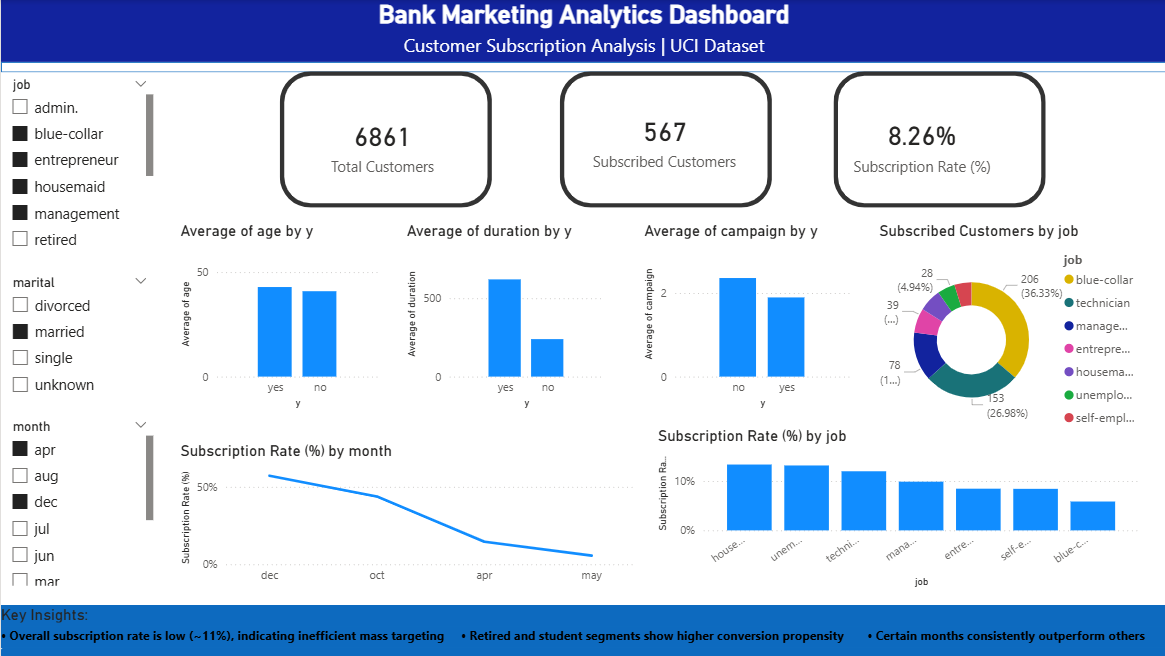

The dashboard page shown, as its layout file describes it:
{"tool":"powerbi","page":{"name":"Page 1","canvas":[1280,720],"ordinal":0},"visuals":[{"type":"card","fields":{"Values":["bank-additional-full.Total Customers"]},"box":[330.7,77.7,176.6,161.1],"z":0},{"type":"card","fields":{"Values":["bank-additional-full.Subscribed Customers"]},"box":[638.7,72.1,180.9,161.1],"z":1000},{"type":"card","fields":{"Values":["bank-additional-full.Subscription Rate (%)"]},"box":[914.3,77.7,195,159.7],"z":2000},{"type":"clusteredColumnChart","fields":{"Category":["bank-additional-full.y"],"Y":["Avg(bank-additional-full.age)"]},"box":[192.2,243.1,227.5,210.6],"z":3000},{"type":"clusteredColumnChart","fields":{"Category":["bank-additional-full.y"],"Y":["Avg(bank-additional-full.duration)"]},"box":[440.9,243.1,226.1,210.6],"z":4000},{"type":"clusteredColumnChart","fields":{"Category":["bank-additional-full.y"],"Y":["Avg(bank-additional-full.campaign)"]},"box":[700.9,243.1,236,210.6],"z":5000},{"type":"textbox","box":[0,0,1280.3,79.1],"z":6000},{"type":"slicer","fields":{"Values":["bank-additional-full.job"]},"box":[0,79.1,172.4,206.3],"z":7000},{"type":"clusteredColumnChart","fields":{"Category":["bank-additional-full.job"],"Y":["bank-additional-full.Subscription Rate (%)"]},"box":[716.5,467.7,538.4,182.3],"z":8000},{"type":"shape","title":"Bank Marketing Analytics Dashboard","box":[0,0,1280.3,79.1],"z":9000},{"type":"shape","box":[306.6,77.7,233.2,149.8],"z":10000},{"type":"shape","box":[613.3,77.7,233.2,149.8],"z":11000},{"type":"shape","box":[914.3,77.7,233.2,149.8],"z":12000},{"type":"slicer","fields":{"Values":["bank-additional-full.marital"]},"box":[0,296.8,172.4,156.9],"z":13000},{"type":"slicer","fields":{"Values":["bank-additional-full.month"]},"box":[0,453.6,172.4,193.6],"z":14000},{"type":"lineChart","fields":{"Category":["bank-additional-full.month"],"Y":["bank-additional-full.Subscription Rate (%)"]},"box":[192.2,484.7,508.7,165.3],"z":15000},{"type":"donutChart","fields":{"Category":["bank-additional-full.job"],"Y":["bank-additional-full.Subscribed Customers"]},"box":[959.5,243.1,299.6,241.6],"z":16000},{"type":"shape","title":"     Key Insights:","box":[0,664.2,1280.3,56.5],"z":17000}]}

Visuals, with their boxes in screenshot pixels (x1, y1, x2, y2), scaled from the page's 1280x720 canvas onto the 1165x656 screenshot:
card - bank-additional-full.Total Customers: 301,71,462,218
card - bank-additional-full.Subscribed Customers: 581,66,746,212
card - bank-additional-full.Subscription Rate (%): 832,71,1010,216
clusteredColumnChart - bank-additional-full.y x Avg(bank-additional-full.age): 175,221,382,413
clusteredColumnChart - bank-additional-full.y x Avg(bank-additional-full.duration): 401,221,607,413
clusteredColumnChart - bank-additional-full.y x Avg(bank-additional-full.campaign): 638,221,853,413
textbox: 0,0,1164,72
slicer - bank-additional-full.job: 0,72,157,260
clusteredColumnChart - bank-additional-full.job x bank-additional-full.Subscription Rate (%): 652,426,1142,592
"Bank Marketing Analytics Dashboard" shape: 0,0,1164,72
shape: 279,71,491,207
shape: 558,71,770,207
shape: 832,71,1044,207
slicer - bank-additional-full.marital: 0,270,157,413
slicer - bank-additional-full.month: 0,413,157,590
lineChart - bank-additional-full.month x bank-additional-full.Subscription Rate (%): 175,442,638,592
donutChart - bank-additional-full.job x bank-additional-full.Subscribed Customers: 873,221,1146,442
"     Key Insights:" shape: 0,605,1164,655
